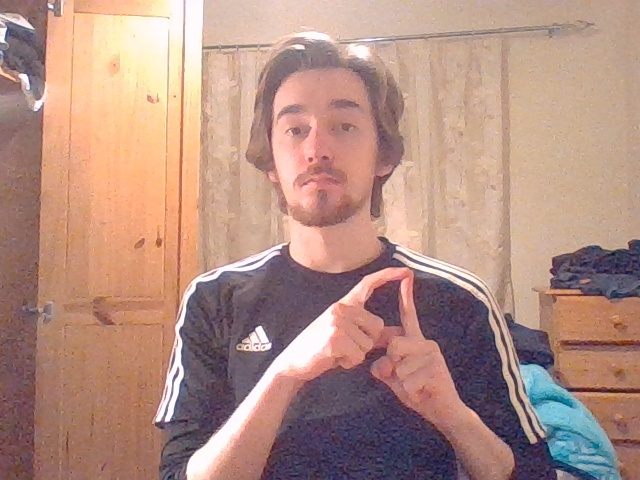daughter: (330, 267, 433, 380)
